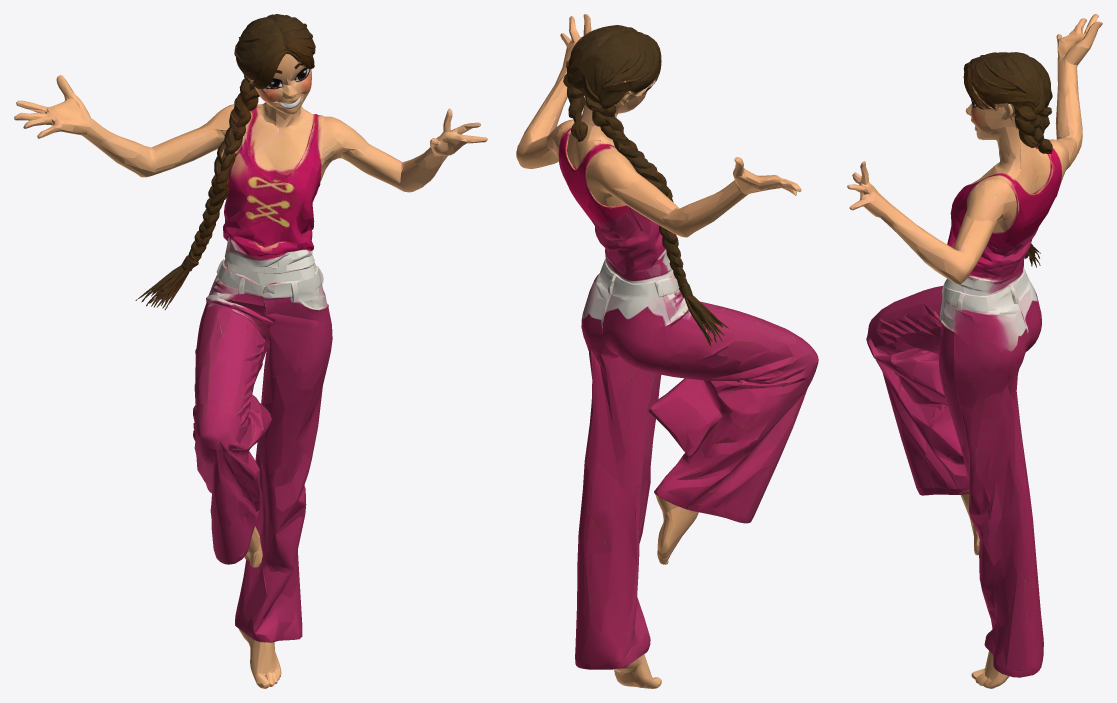
File: tylee2.glb
The picture shows the model from 3 angles, left to right: view 1: azimuth 30°, elevation 25°; view 2: azimuth 150°, elevation 25°; view 3: azimuth 270°, elevation 25°; orthographic projection. The views are drawn at different scales.
Size of the model in its own units: 1.08 by 1.9 by 0.6893.
Materials: 1 (1 with a texture image).
